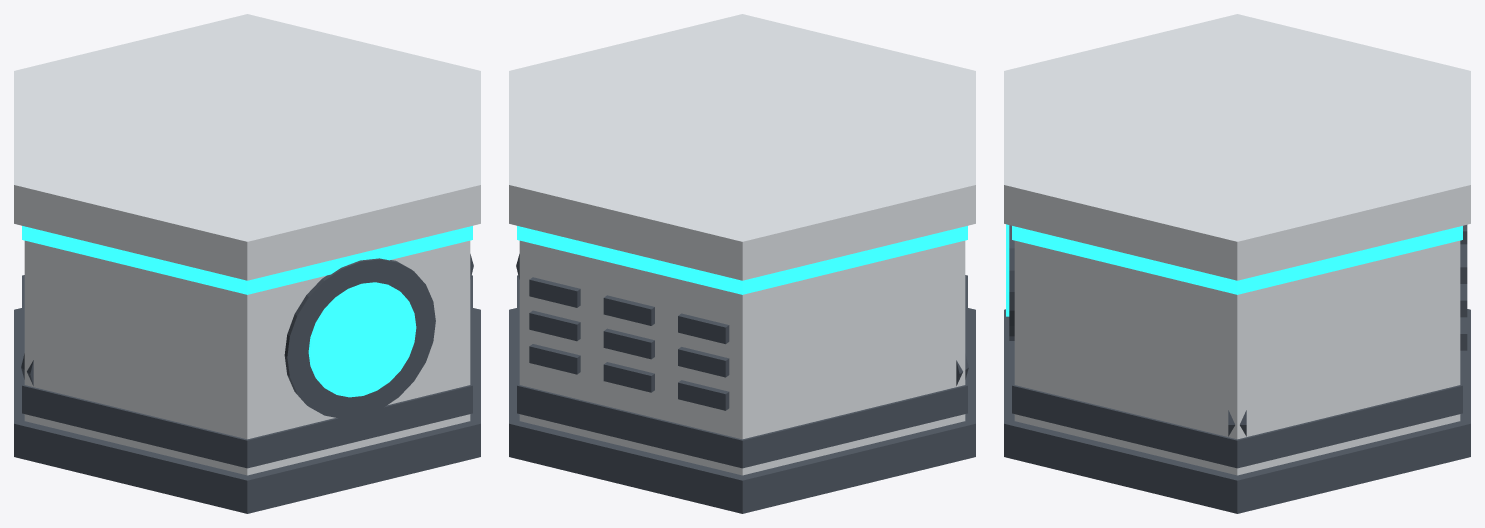
Rendered from ammo_scifi.glb.
3 views of the same model, side by side, from view 1: azimuth 30°, elevation 25°; view 2: azimuth 150°, elevation 25°; view 3: azimuth 270°, elevation 25° (orthographic).
Visible parts, largest first — view 1: body; view 2: body; view 3: body.
Part boxes in pixels (bbox=[...]): body: bbox=[14, 14, 480, 513]; body: bbox=[509, 14, 975, 513]; body: bbox=[1004, 14, 1470, 513].
Size of the model in its own units: 0.88 by 0.49 by 0.7621.
